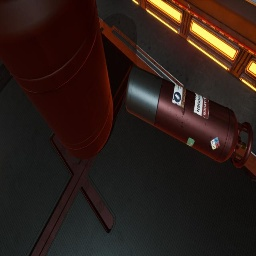NitrogenTank ,: (126, 66, 253, 168)
